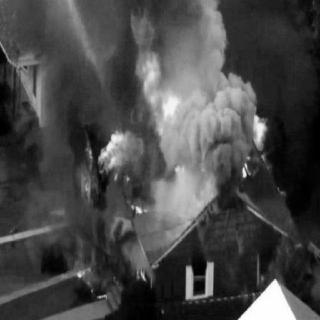Fire: (88, 17, 198, 219), (238, 104, 288, 198), (77, 242, 113, 306)
Smoke: (165, 0, 252, 202)
